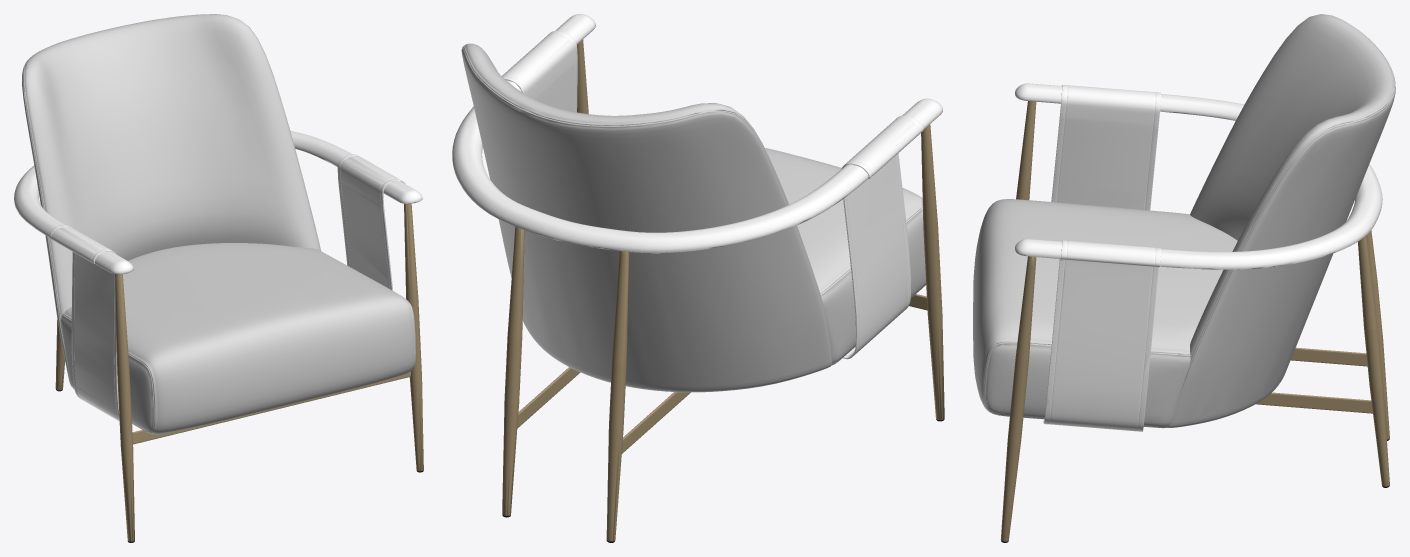
Rendered from poltrona-gala.glb.
3 renders of one model, left to right at view 1: azimuth 30°, elevation 25°; view 2: azimuth 150°, elevation 25°; view 3: azimuth 270°, elevation 25°, orthographic. The views are drawn at different scales.
Visible parts, largest first — view 1: Geom3D (×4); view 2: Geom3D (×4); view 3: Geom3D (×4).
Boxes of the visible parts, x1=… form: Geom3D (×4): x1=14, y1=14, x2=423, y2=541; Geom3D (×4): x1=452, y1=14, x2=944, y2=541; Geom3D (×4): x1=973, y1=14, x2=1395, y2=541.
Size of the model in its own units: 0.7203 by 0.7909 by 0.765.
